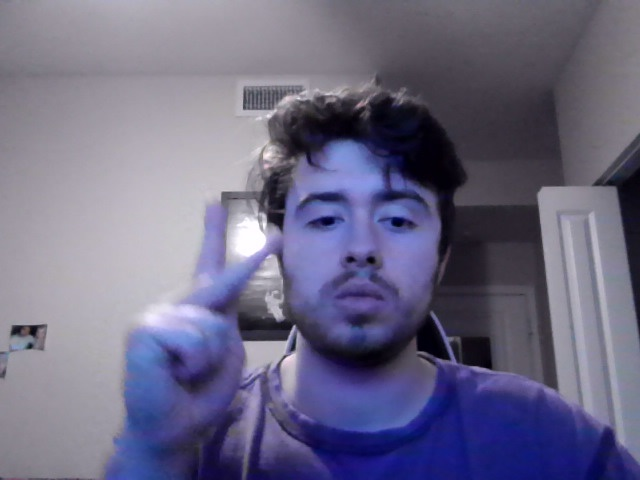k: (122, 197, 283, 458)
